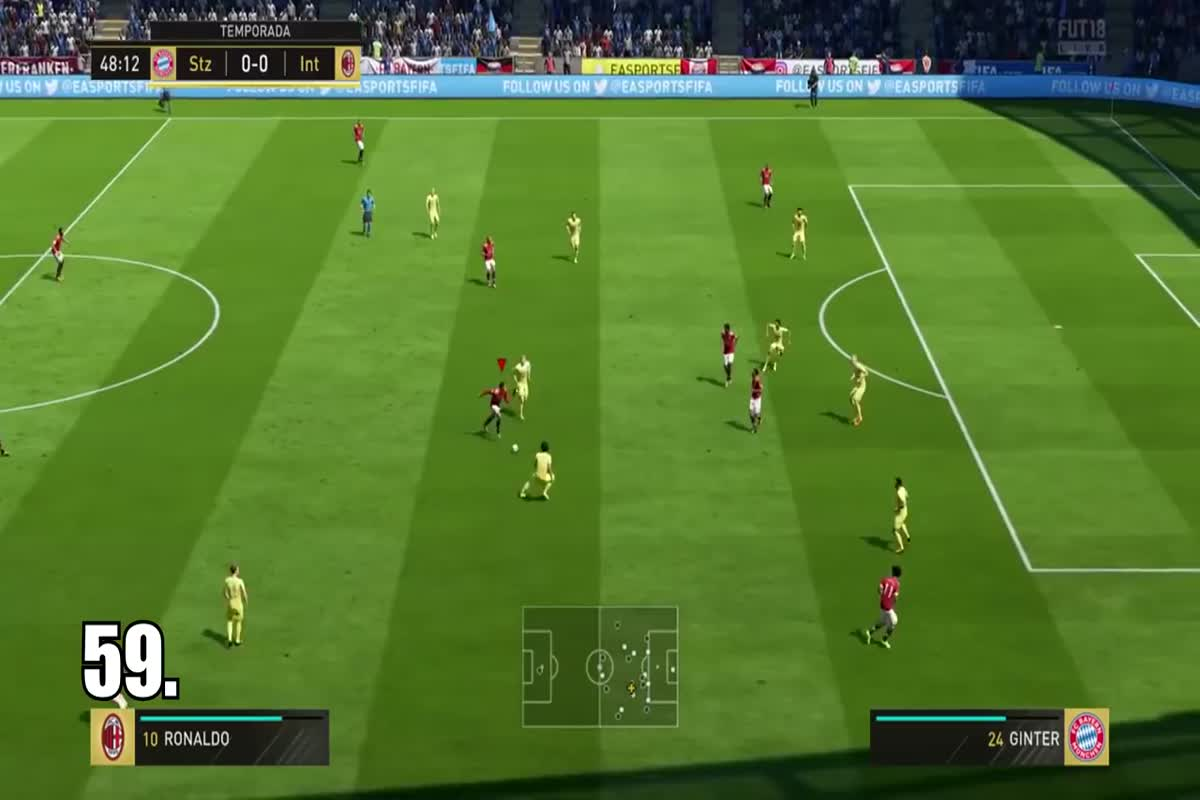ball: (507, 440, 524, 457)
